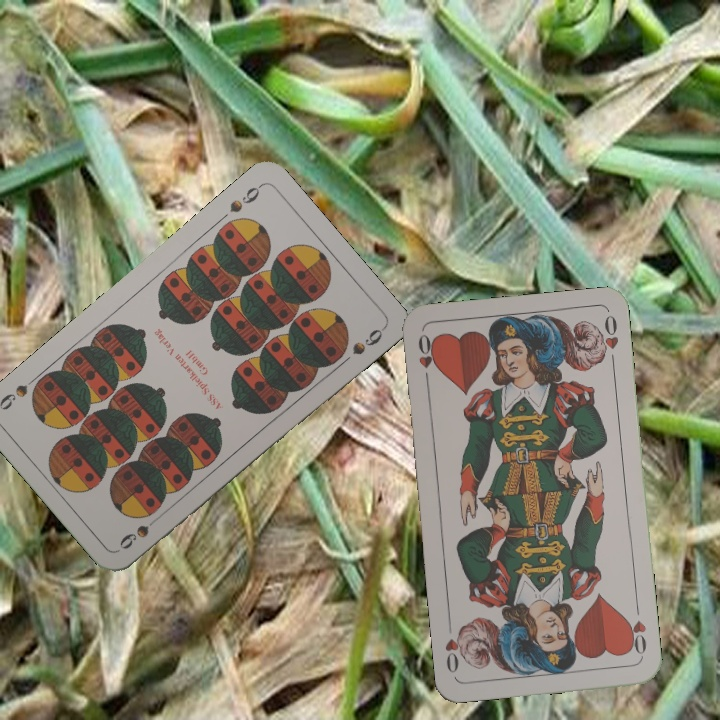HO: (623, 600, 649, 659), (414, 330, 439, 388)
S9: (115, 510, 165, 552), (225, 180, 265, 215)
